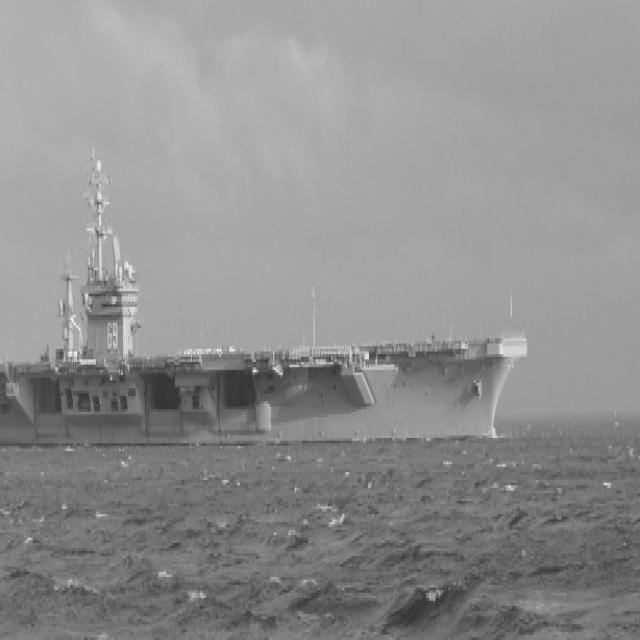Portanaves: (1, 143, 531, 455)
